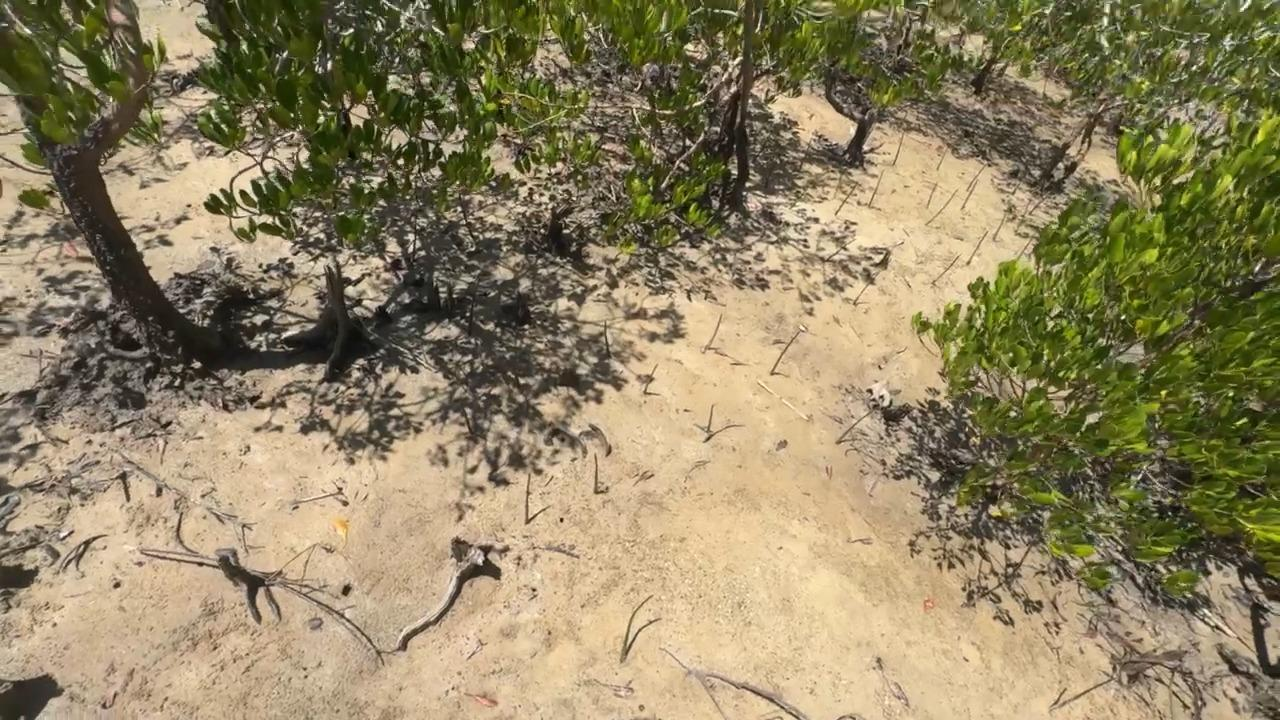Tree: (619, 594, 655, 664), (770, 329, 801, 375), (835, 409, 874, 444), (925, 188, 959, 225), (853, 270, 883, 305), (931, 254, 963, 285), (835, 181, 860, 215), (966, 230, 990, 265), (826, 238, 857, 260), (752, 131, 773, 163), (868, 169, 885, 208), (705, 313, 723, 349), (966, 163, 988, 192), (961, 179, 979, 210), (1029, 191, 1051, 215), (799, 137, 813, 171), (644, 364, 659, 393), (1049, 687, 1068, 709), (892, 132, 904, 165), (992, 214, 1006, 241), (925, 182, 939, 209), (524, 472, 531, 523), (936, 145, 949, 171), (1018, 235, 1032, 259), (1011, 173, 1026, 195), (469, 283, 475, 335), (604, 319, 612, 357), (764, 162, 775, 187), (593, 453, 599, 494), (1021, 198, 1032, 218), (707, 404, 715, 431), (109, 470, 128, 481)
